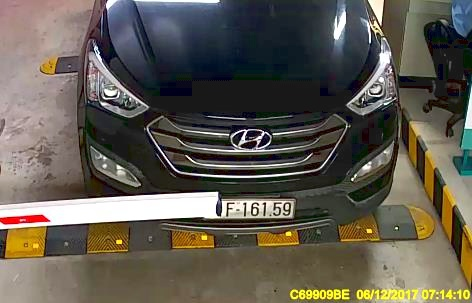plate: (200, 193, 296, 219)
